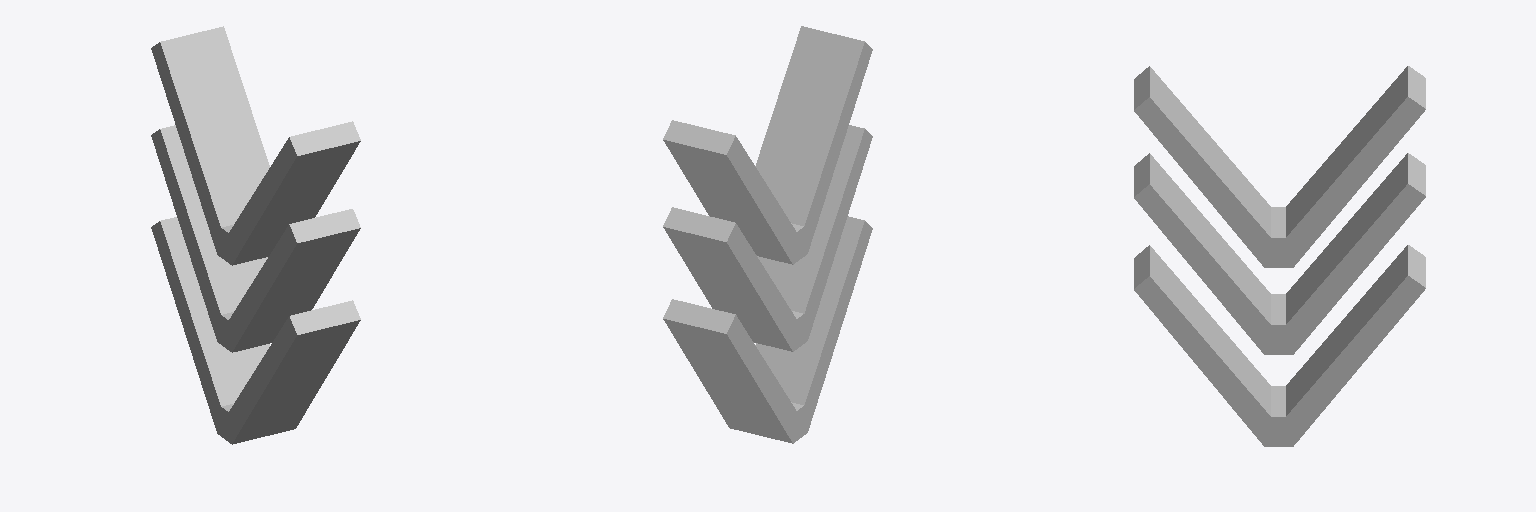
File: PowerUp.obj
3 renders of one model, left to right at view 1: azimuth 30°, elevation 25°; view 2: azimuth 150°, elevation 25°; view 3: azimuth 270°, elevation 25°, orthographic.
Visible parts, largest first — view 1: Cube.002_Cube.004, Cube.001_Cube.003, Cube; view 2: Cube.002_Cube.004, Cube.001_Cube.003, Cube; view 3: Cube, Cube.001_Cube.003, Cube.002_Cube.004.
Boxes of the visible parts, <box> form: Cube.002_Cube.004: <box>151,26,360,265</box>; Cube.001_Cube.003: <box>151,217,360,444</box>; Cube: <box>151,125,360,352</box>; Cube.002_Cube.004: <box>663,26,872,264</box>; Cube.001_Cube.003: <box>663,216,872,443</box>; Cube: <box>663,125,872,351</box>; Cube: <box>1134,153,1425,354</box>; Cube.001_Cube.003: <box>1134,245,1425,446</box>; Cube.002_Cube.004: <box>1134,66,1425,267</box>.
Size of the model in its own units: 0.5 by 2.62 by 1.99.